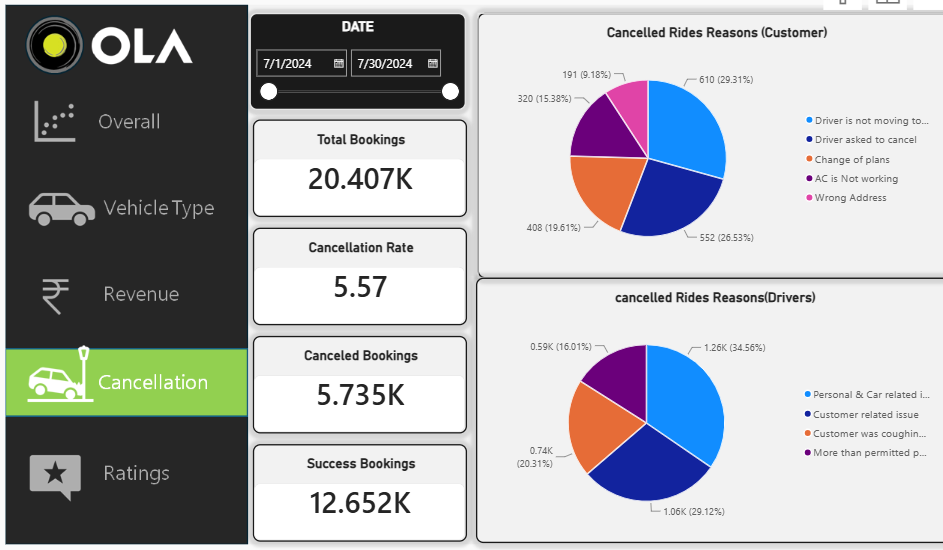

This screenshot's page, from the dashboard's own definition file:
{"tool":"powerbi","page":{"name":"Cancellation","canvas":[1920,1080],"ordinal":3},"visuals":[{"type":"actionButton","box":[323.3,386,318.6,90.7],"z":0},{"type":"actionButton","box":[320.9,514,318.6,90.7],"z":1000},{"type":"actionButton","box":[320.9,762.8,318.6,90.7],"z":2000},{"type":"actionButton","box":[323.3,286,318.6,90.7],"z":3000},{"type":"pieChart","title":"Cancelled Rides Reasons (Customer)","fields":{"Y":["CountNonNull(July.Canceled_Rides_by_Customer)"],"Category":["July.Canceled_Rides_by_Customer"]},"box":[951.4,186.5,635.1,354.1],"z":4000},{"type":"pieChart","title":"cancelled Rides Reasons(Drivers)","fields":{"Category":["July.Canceled_Rides_by_Driver"],"Y":["CountNonNull(July.Canceled_Rides_by_Driver)"]},"box":[948.6,540.5,635.1,354.1],"z":5000},{"type":"slicer","title":"DATE","fields":{"Values":["July.Date"]},"box":[647.7,186.4,288.6,129.5],"z":6000},{"type":"cardVisual","title":"Total Bookings","fields":{"Data":["CountNonNull(July.Booking_ID)"]},"box":[651,328.6,285.7,130.6],"z":7000},{"type":"cardVisual","title":"Success Bookings","fields":{"Data":["CountNonNull(July.Booking_ID)"]},"box":[651,763.3,285.7,130.6],"z":8000},{"type":"cardVisual","title":"Canceled Bookings","fields":{"Data":["CountNonNull(July.Booking_ID)"]},"box":[651,618.4,285.7,130.6],"z":9000},{"type":"cardVisual","title":"Cancellation Rate","fields":{"Data":["July.canceledPercentage"]},"box":[651,473.5,285.7,130.6],"z":10000}]}

Visuals, with their boxes on the page's 1920x1080 design canvas (x1, y1, x2, y2). These are canvas units, not pixel positions in the 943x550 screenshot, which may show the page scaled, cropped or inside an application window:
actionButton: region(323, 386, 642, 477)
actionButton: region(321, 514, 640, 605)
actionButton: region(321, 763, 640, 854)
actionButton: region(323, 286, 642, 377)
"Cancelled Rides Reasons (Customer)" pieChart: region(951, 186, 1586, 541)
"cancelled Rides Reasons(Drivers)" pieChart: region(949, 540, 1584, 895)
"DATE" slicer: region(648, 186, 936, 316)
"Total Bookings" cardVisual: region(651, 329, 937, 459)
"Success Bookings" cardVisual: region(651, 763, 937, 894)
"Canceled Bookings" cardVisual: region(651, 618, 937, 749)
"Cancellation Rate" cardVisual: region(651, 474, 937, 604)
